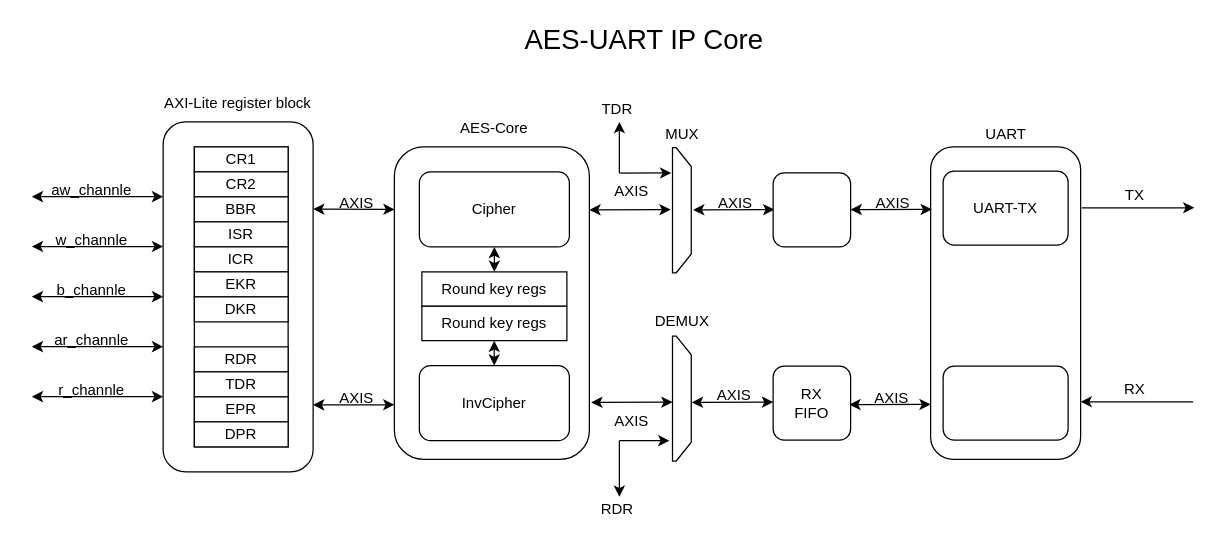
Image size: 1226x543. Some labels were removed from this diagram. The box of each missing label's shape, as (x1, y1, x2, y2) in pixels:
TX FIFO: (772, 172, 851, 247)
UART-RX: (942, 365, 1068, 440)
